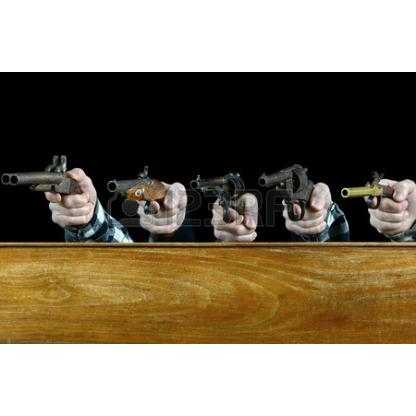gun: (3, 163, 90, 233), (108, 167, 172, 231), (339, 172, 409, 223), (256, 164, 314, 221), (189, 170, 247, 226)
